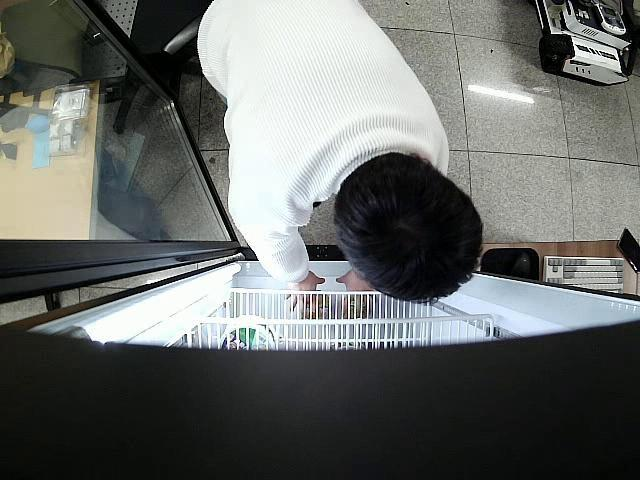04_chapagetti_S: (302, 294, 328, 319), (350, 295, 370, 318)
